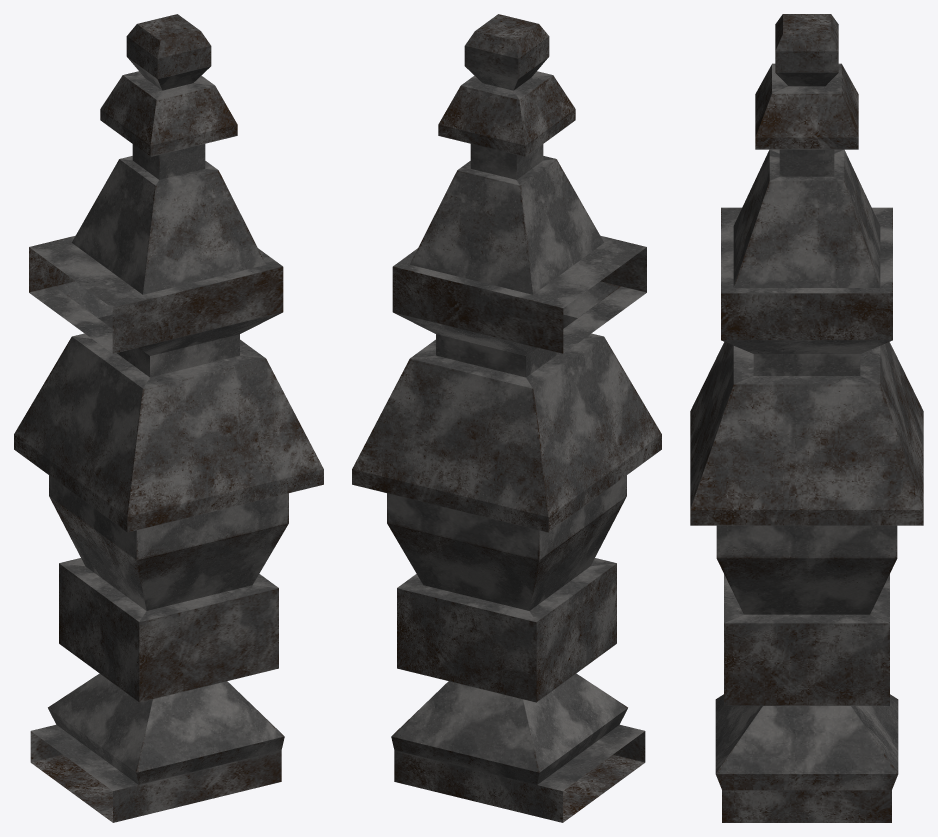
The model's file is FenceSide.fbx.
The picture shows the model from 3 angles, left to right: view 1: azimuth 30°, elevation 25°; view 2: azimuth 150°, elevation 25°; view 3: azimuth 270°, elevation 25°; orthographic projection. The views are drawn at different scales.
Visible parts, largest first — view 1: Cube.002; view 2: Cube.002; view 3: Cube.002.
Boxes of the visible parts, left/top/right/bottom form: Cube.002: left=14, top=14, right=323, bottom=822; Cube.002: left=352, top=14, right=661, bottom=822; Cube.002: left=690, top=14, right=923, bottom=822.
Bounding box in the file's own units: 88.84 × 321 × 88.84.
Materials: 1 (1 with a texture image).
